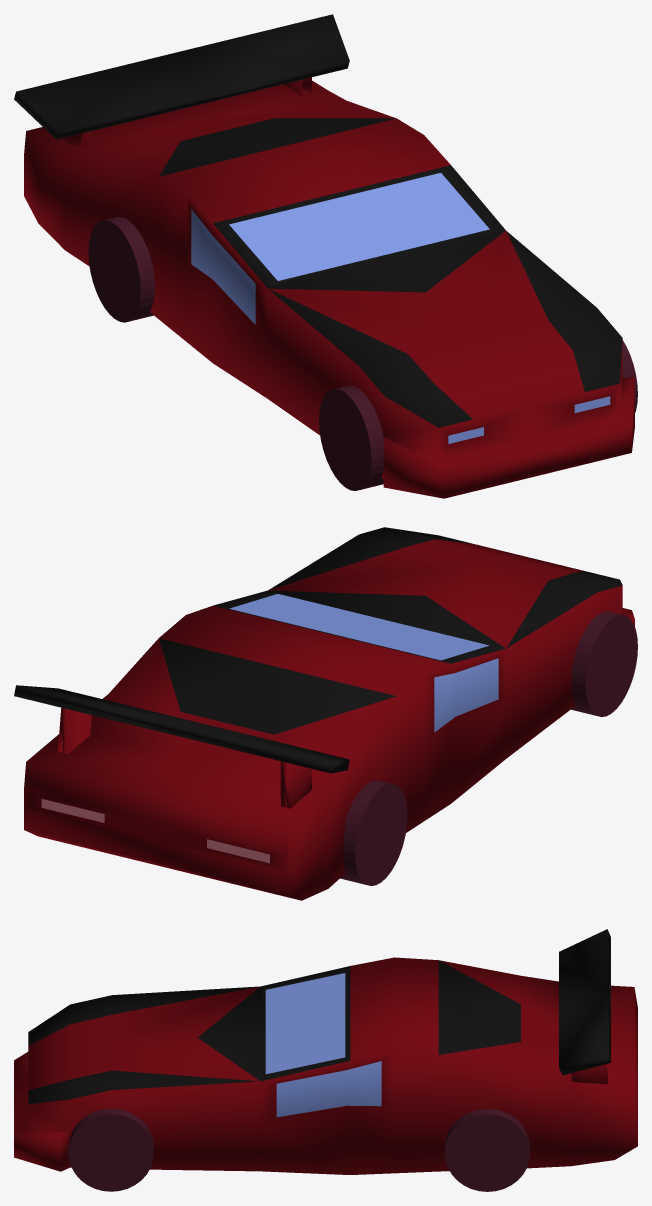
File: CAR_3.fbx
3 views of the same model, one above another, from view 1: azimuth 30°, elevation 25°; view 2: azimuth 150°, elevation 25°; view 3: azimuth 270°, elevation 25° (orthographic). The views are drawn at different scales.
Parts seen in each view (by area): view 1: bodY_CAR2.001, wheelRR.001, wheelFR.001; view 2: bodY_CAR2.001, wheelFR.001, wheelRR.001; view 3: bodY_CAR2.001, wheelFL.003, wheelRL.003.
Boxes of the visible parts, x1,y1,x2,y2 form: bodY_CAR2.001: [14, 14, 634, 498]; wheelRR.001: [88, 217, 154, 322]; wheelFR.001: [319, 385, 383, 490]; bodY_CAR2.001: [14, 527, 634, 900]; wheelFR.001: [571, 611, 637, 716]; wheelRR.001: [340, 780, 407, 885]; bodY_CAR2.001: [14, 929, 637, 1174]; wheelFL.003: [68, 1108, 153, 1191]; wheelRL.003: [444, 1108, 530, 1191].
Size of the model in its own units: 279 by 151 by 583.
